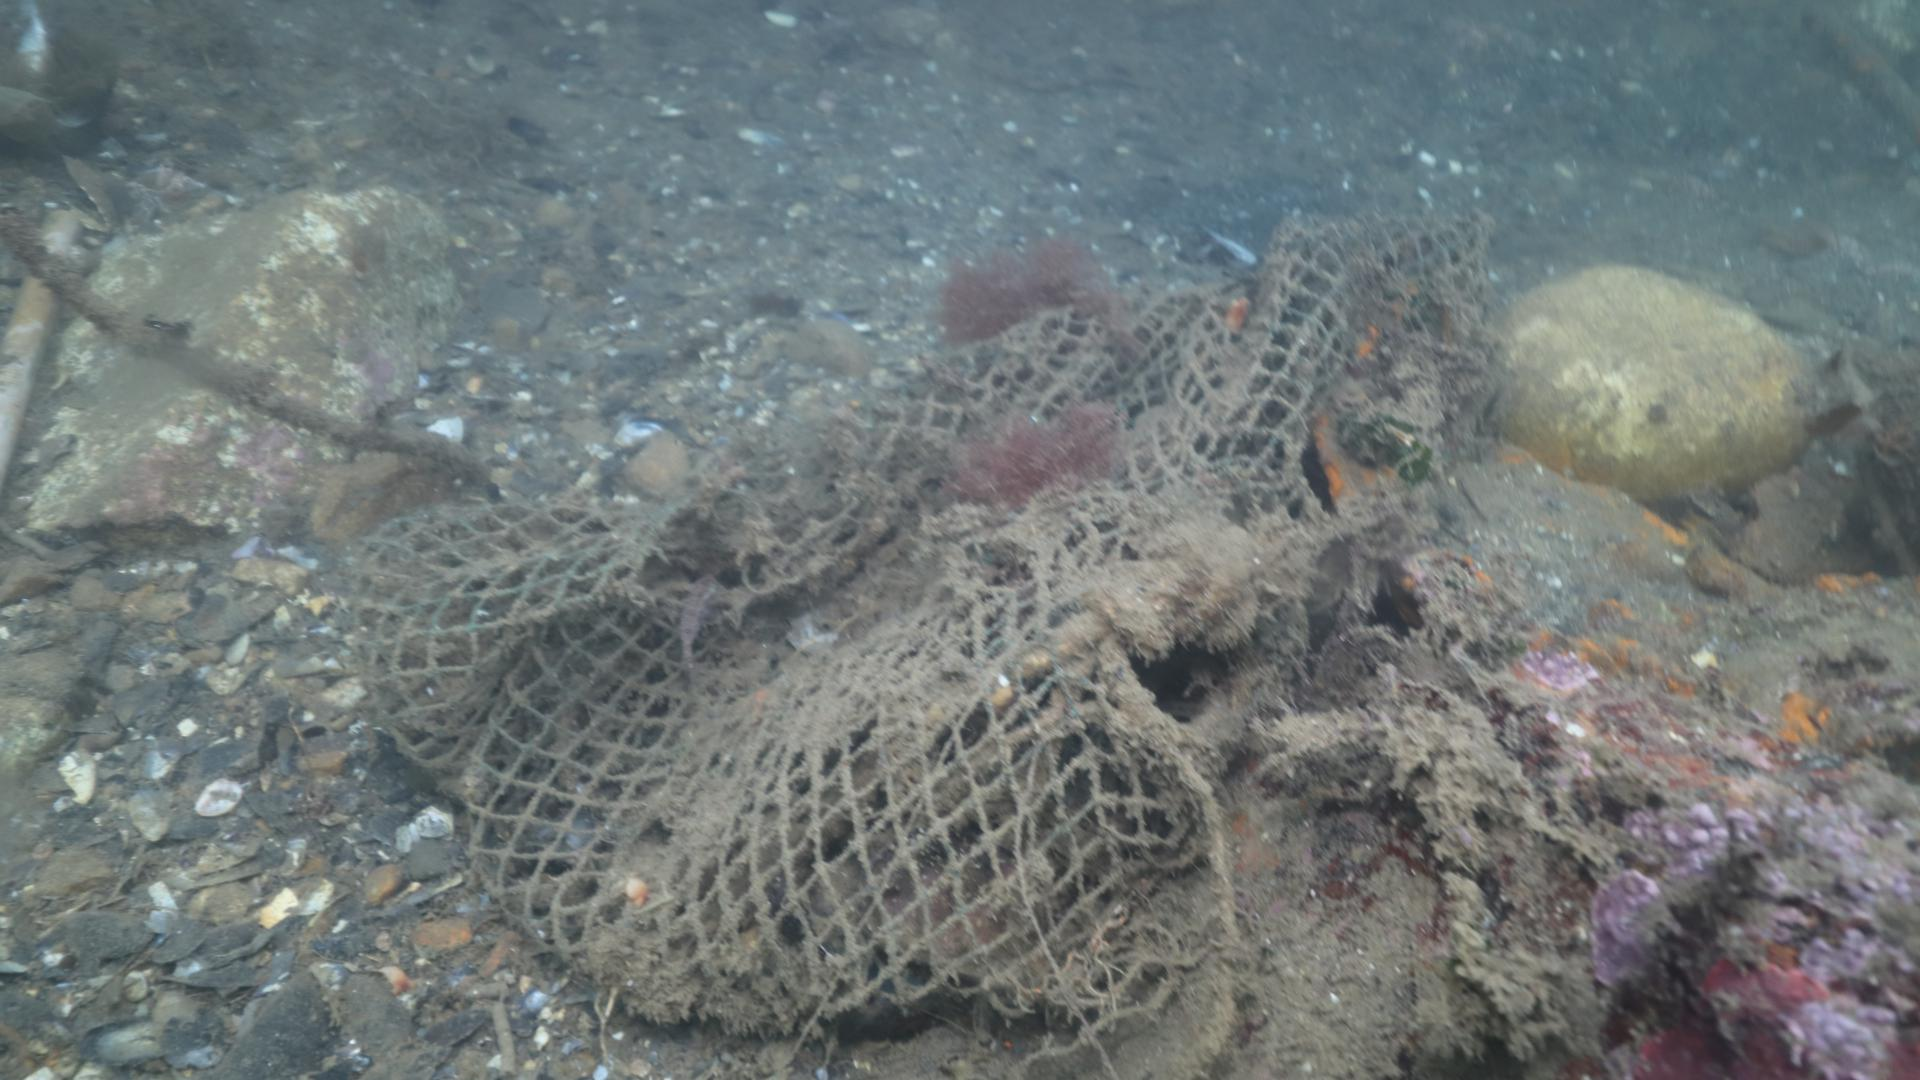fish net: (345, 207, 1505, 1029)
